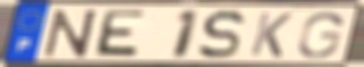1: (173, 8, 199, 61)
E: (90, 9, 148, 60)
G: (295, 11, 346, 60)
K: (247, 10, 295, 59)
N: (41, 8, 100, 59)
S: (196, 8, 248, 60)
